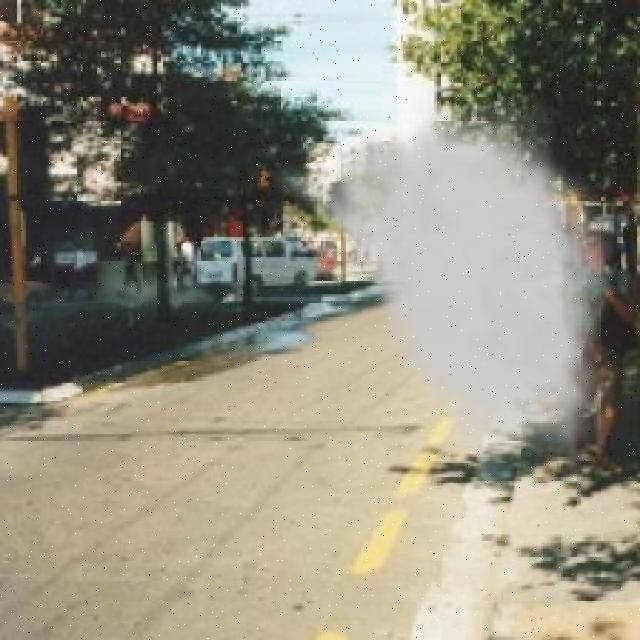smoke: (339, 129, 605, 457)
